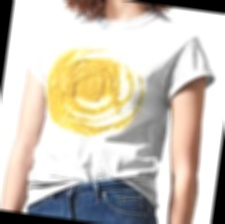mustard: (44, 84, 123, 136), (59, 59, 116, 104), (109, 65, 142, 133), (52, 43, 100, 89)
